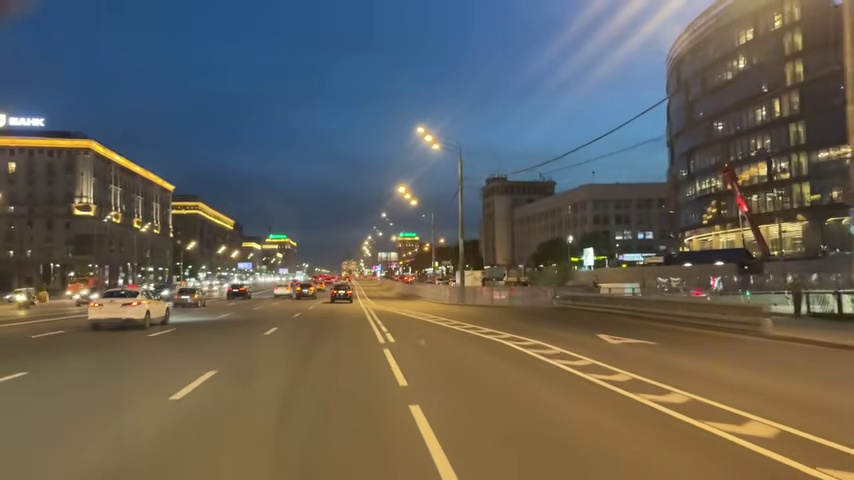acesa: (415, 125, 440, 152), (395, 183, 417, 206)
